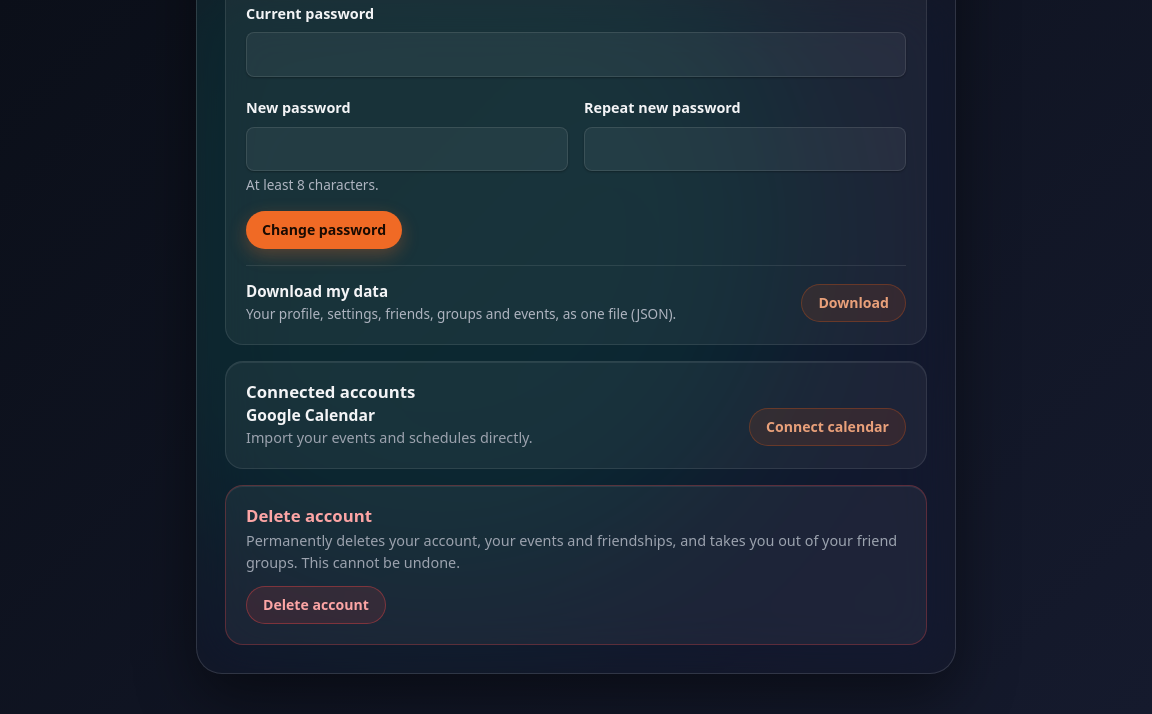
it: a failed delete says so and keeps you logged in
(page scrolled)
Step 1. Click the button "Delete account" → click(316, 605), box [246,586,386,624]
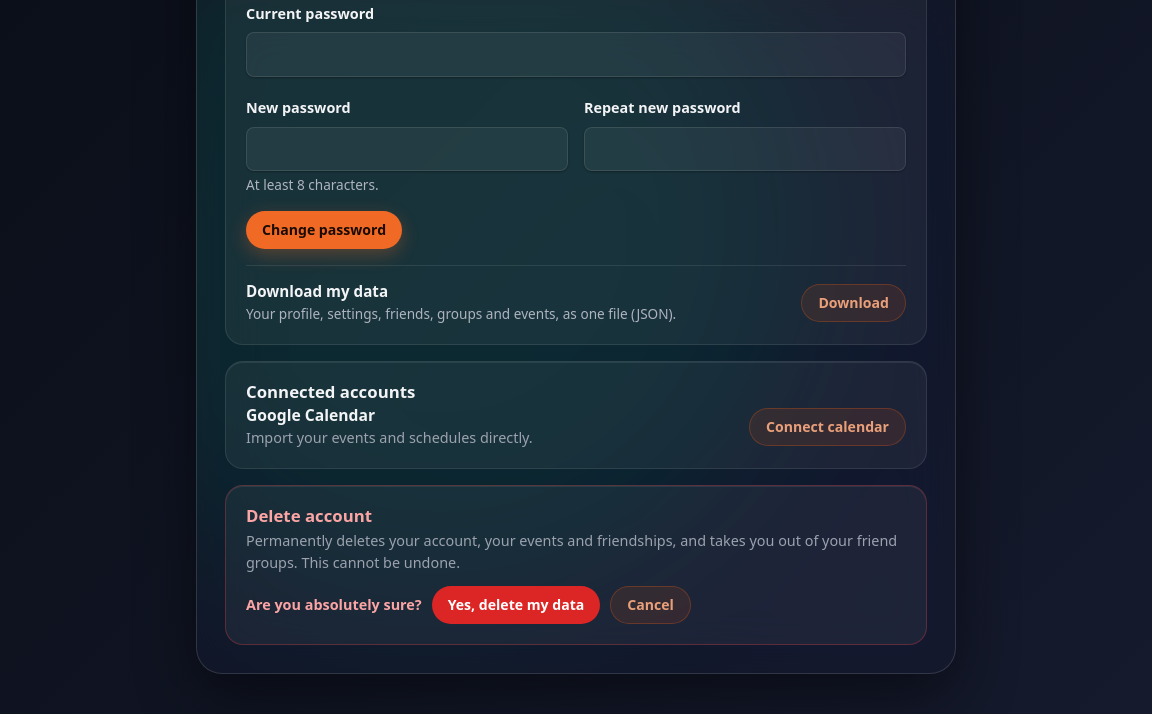
Step 2. Click the button "Yes, delete my data" → click(516, 605), box [432,586,600,624]
(page scrolled)
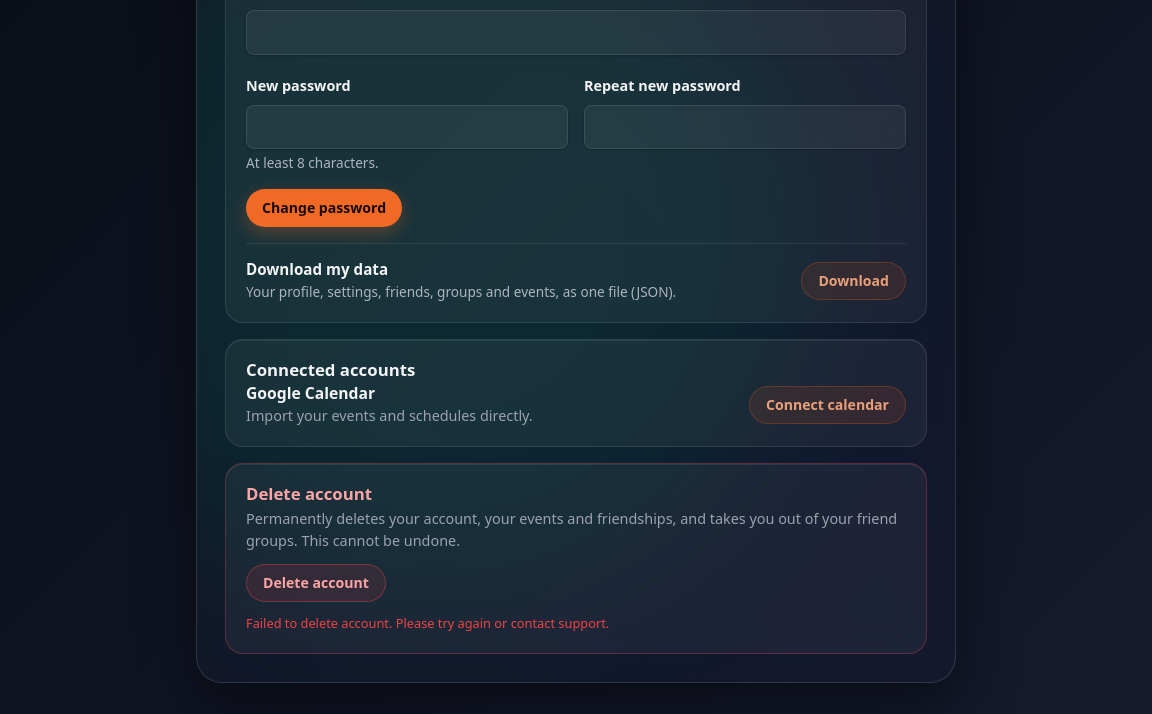
Expected: the message shows "Failed to delete account", [246,614,609,632]
